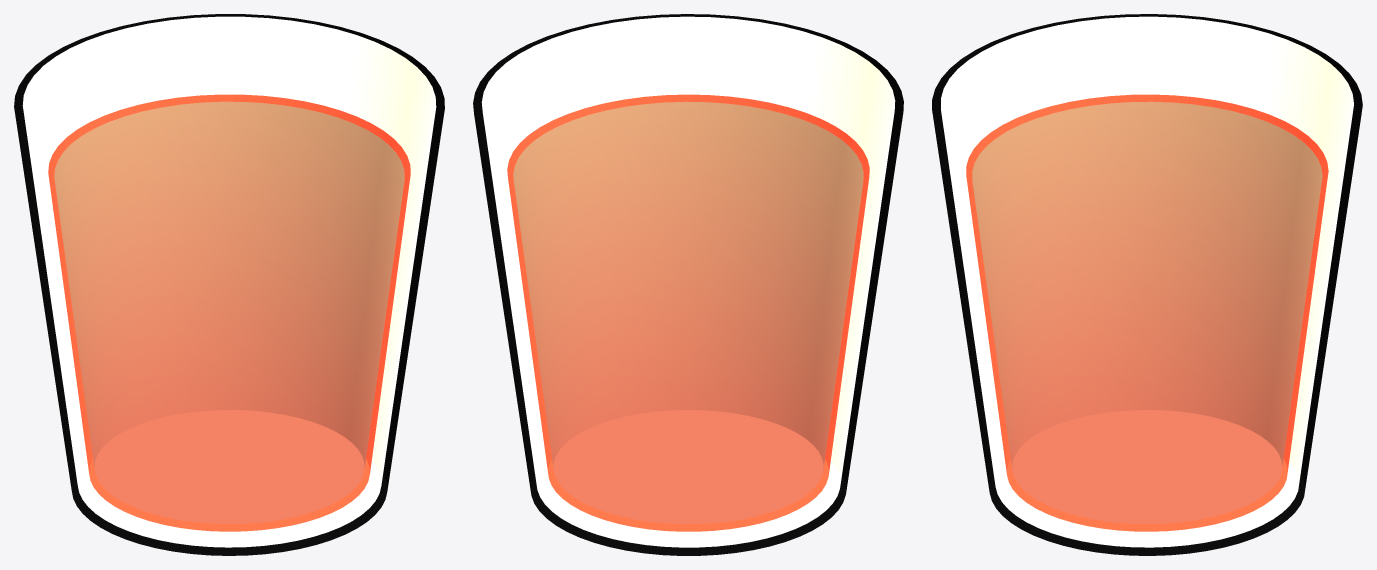
File: cup.glb
The picture shows the model from 3 angles, left to right: view 1: azimuth 30°, elevation 25°; view 2: azimuth 150°, elevation 25°; view 3: azimuth 270°, elevation 25°; orthographic projection.
Parts seen in each view (by area): view 1: cup; view 2: cup; view 3: cup.
Boxes of the visible parts, x1,y1,x2,y2 form: cup: (14, 14, 444, 555); cup: (473, 14, 903, 555); cup: (932, 14, 1362, 555).
Size of the model in its own units: 1.96 by 1.93 by 1.96.
4 materials, 1 textured.
